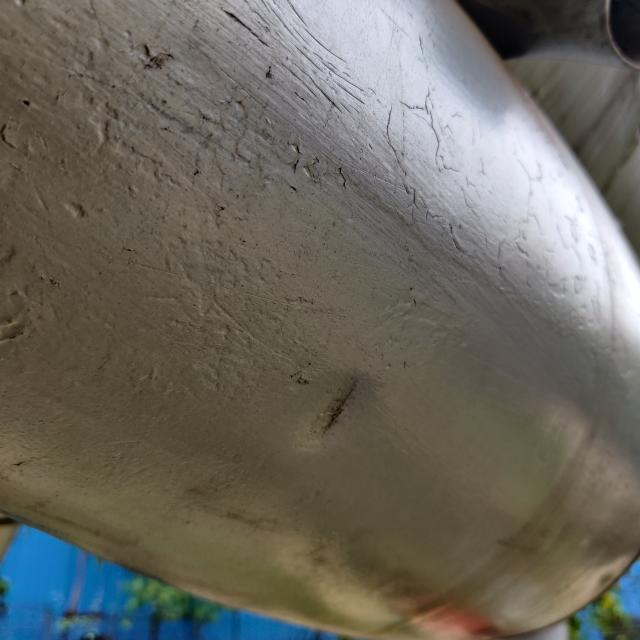dent: (288, 344, 397, 459)
